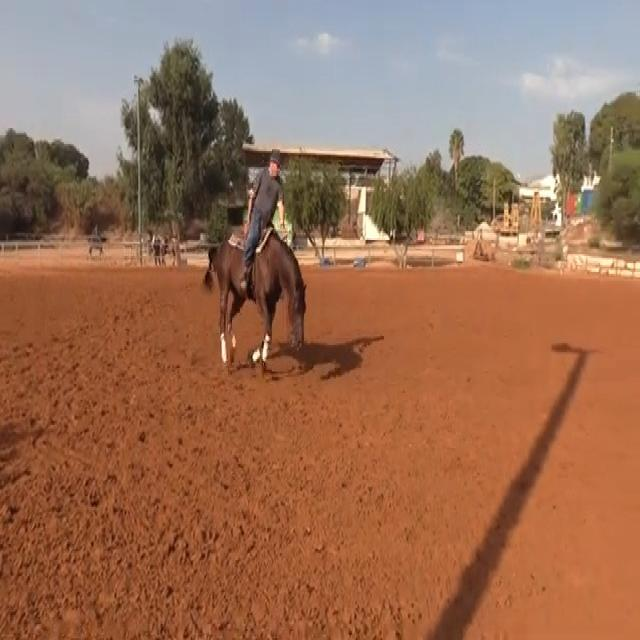horse: (202, 224, 308, 375)
